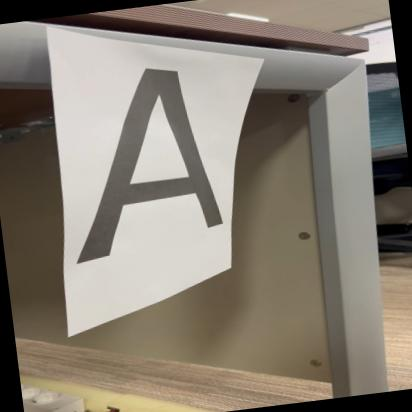seat: (40, 45, 236, 269)
